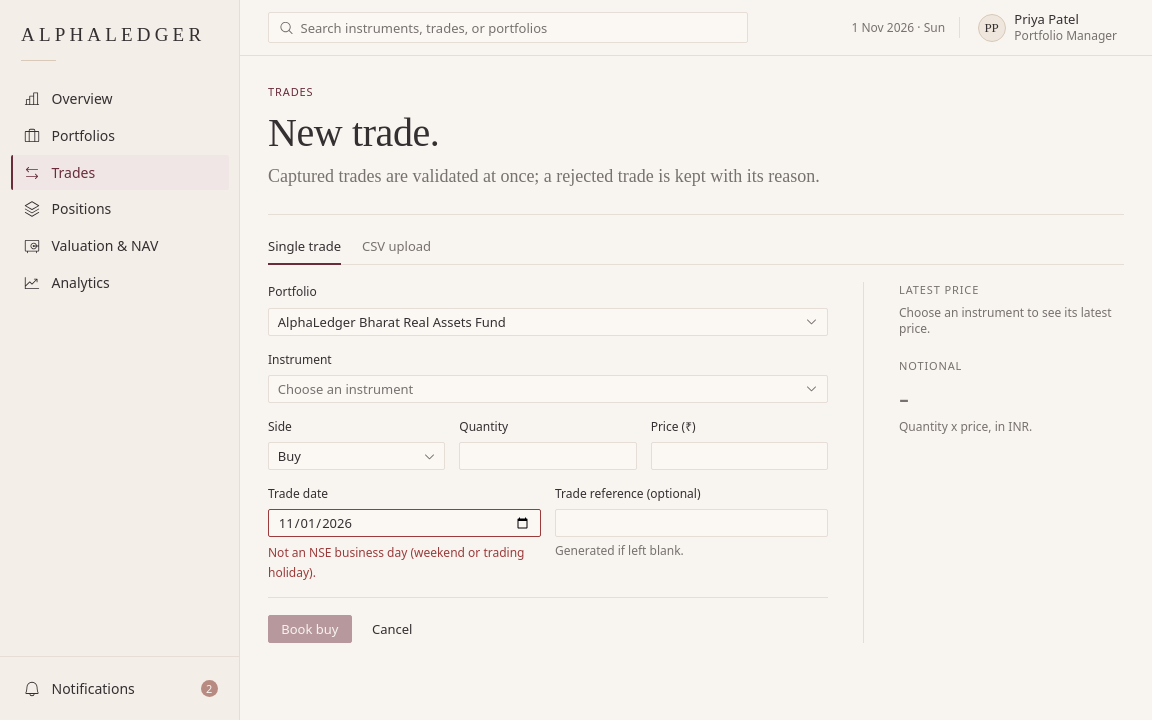
Test: trade booking › shows a rejected trade as a result with its reason
The image size is (1152, 720).
Expected: the heading "New trade." is shown, [268,110,440,154]
Expected: the dropdown named "Portfolio" reads "AlphaLedger Bharat Real Assets Fund", [268,308,828,336]
Click the dropdown labelled "instrument" at (346, 389), box [268,375,828,403]
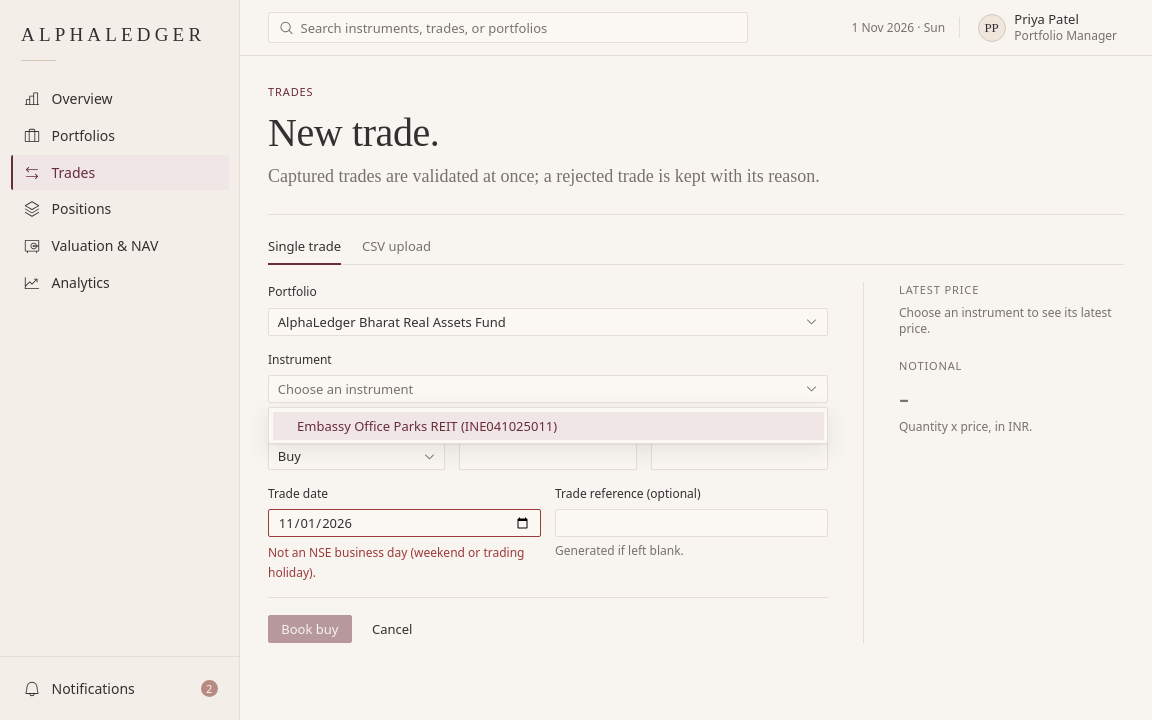
Click the option "Embassy Office Parks REIT (INE041025011)" at (548, 426), box [272,412,824,440]
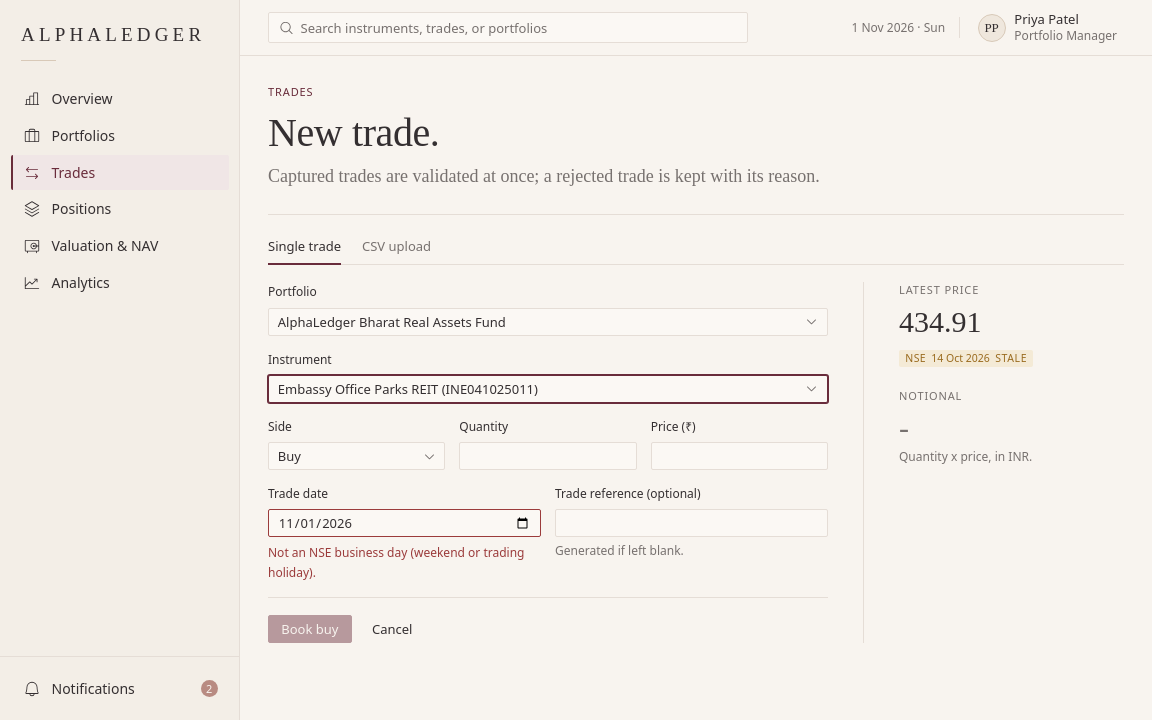
Type "900" into the field labelled "Quantity" at (548, 456), box [459,442,637,470]
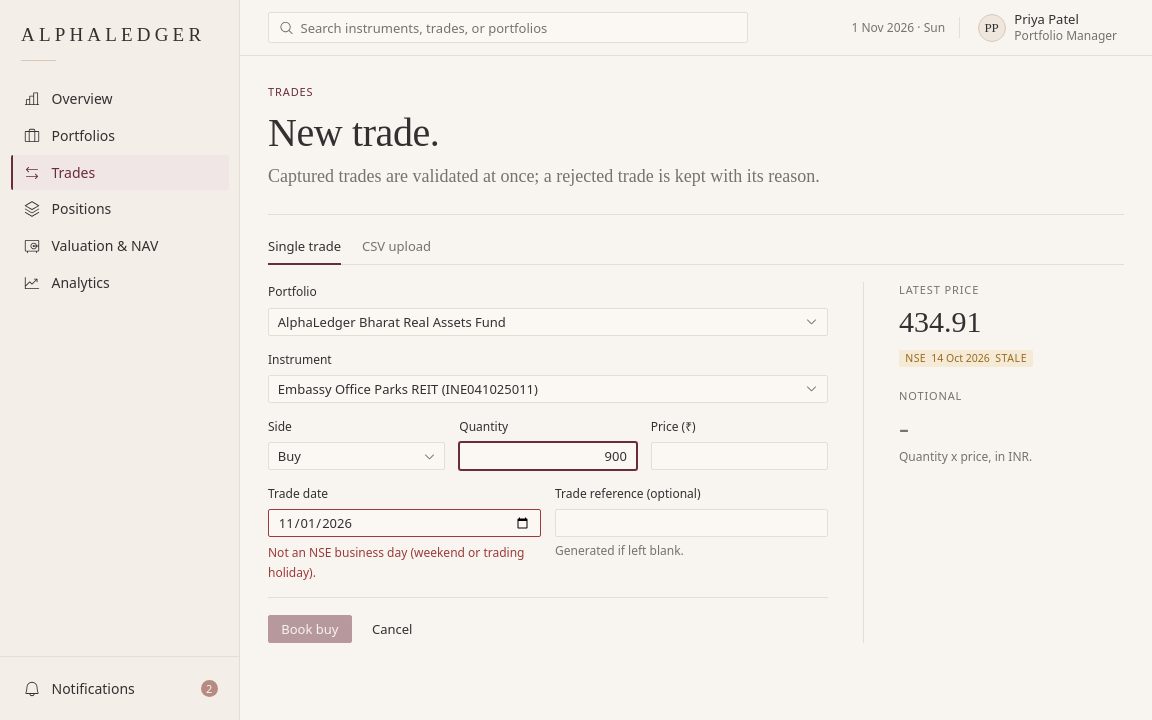
Type "440" into the field labelled "Price (₹)" at (739, 456), box [651,442,828,470]
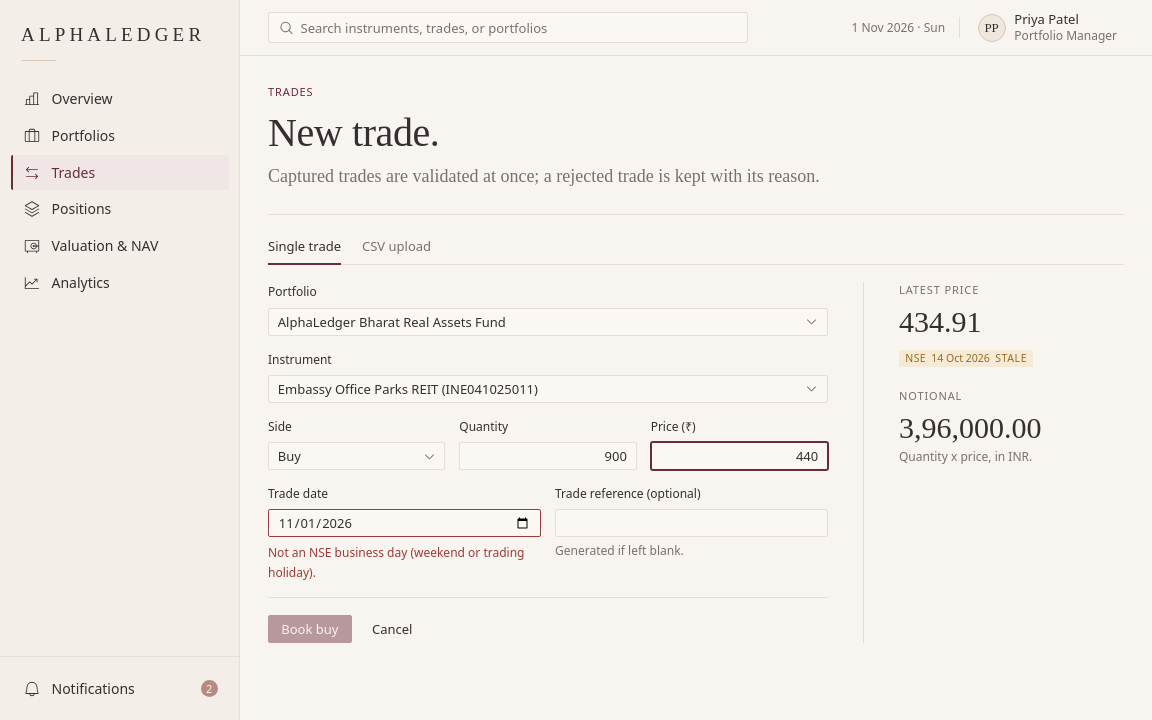
Type "2026-10-15" into the date field labelled "Trade date" at (404, 523), box [268,509,541,537]
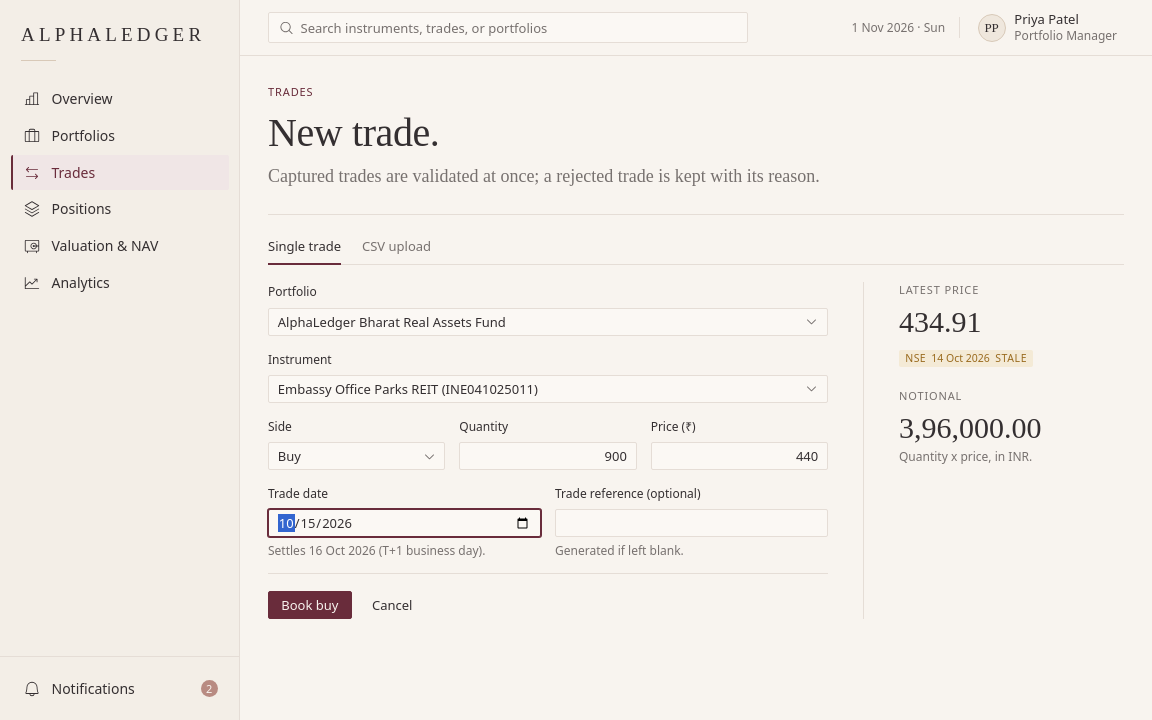
Click the button "Book buy" at (310, 605), box [268,591,352,619]
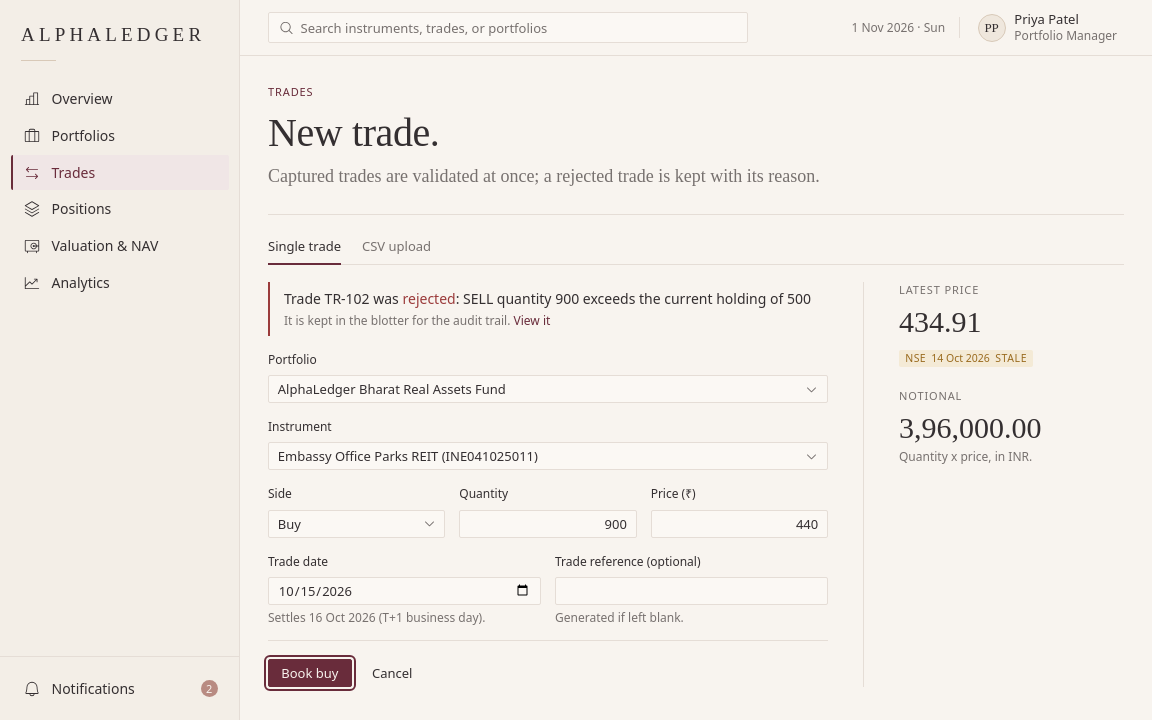
Expected: the text "SELL quantity 900 exceeds the current holding of 500" is shown, [463,289,811,308]
